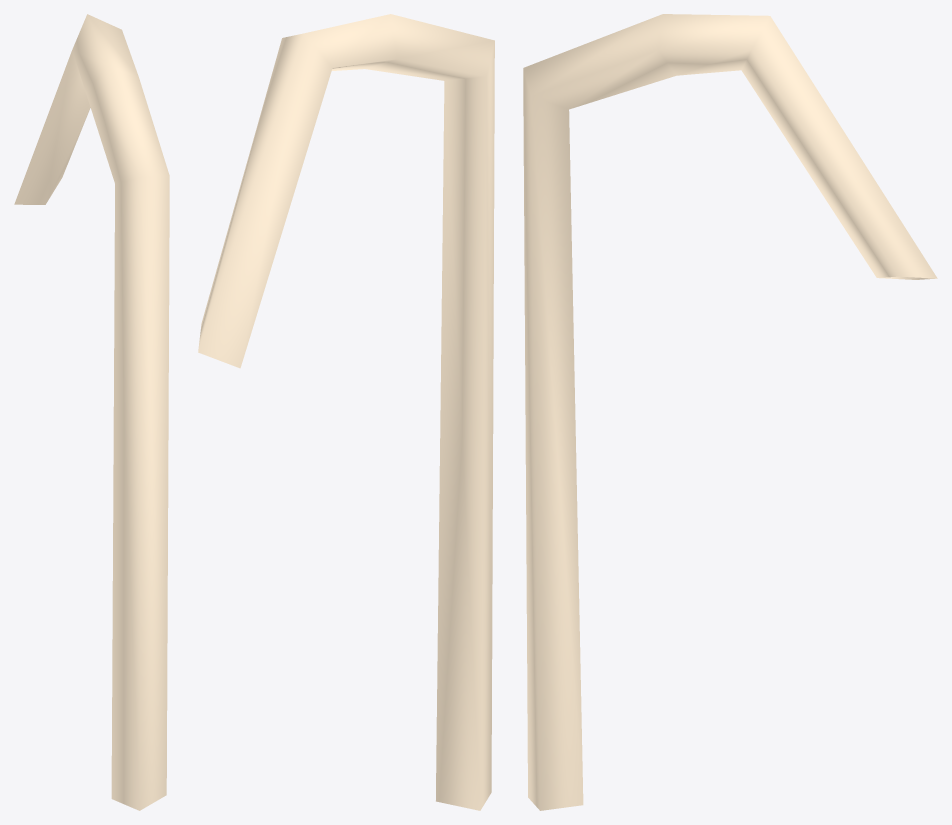
Rendered from anchorrope.glb.
The picture shows the model from 3 angles, left to right: view 1: azimuth 30°, elevation 25°; view 2: azimuth 150°, elevation 25°; view 3: azimuth 270°, elevation 25°; orthographic projection. The views are drawn at different scales.
Visible parts, largest first — view 1: BezierCurve.005; view 2: BezierCurve.005; view 3: BezierCurve.005.
Part boxes in pixels (left/top/right/bottom): BezierCurve.005: left=14, top=14, right=169, bottom=810; BezierCurve.005: left=198, top=14, right=494, bottom=810; BezierCurve.005: left=523, top=14, right=937, bottom=810.
Bounding box in the file's own units: 0.0137 × 0.098 × 0.0454.
